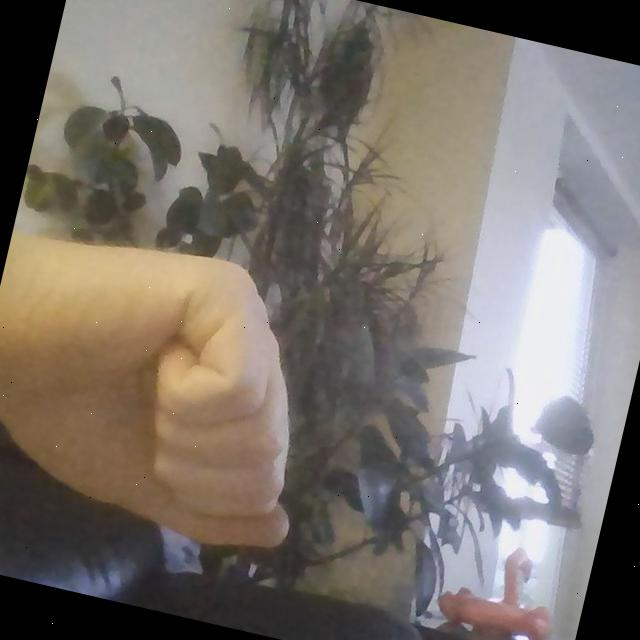rock: (0, 213, 349, 566)
